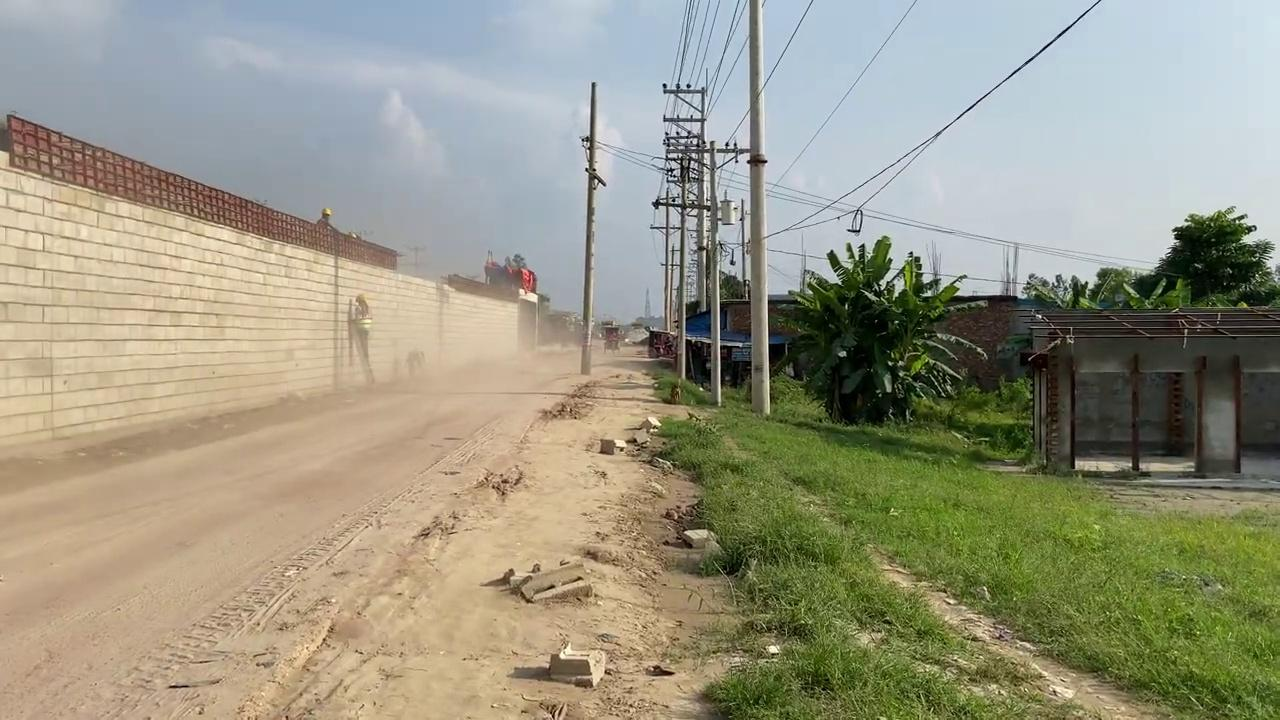Dog: (668, 383, 681, 403)
Muddy road: (2, 346, 738, 718)
Obstacle: (516, 562, 593, 603), (547, 641, 606, 687)
Pole: (746, 0, 771, 416), (579, 80, 597, 375), (707, 140, 722, 406)
Traffic-sign: (770, 234, 987, 425), (1139, 204, 1277, 306)
Tree: (442, 249, 584, 350), (483, 249, 537, 294), (601, 319, 620, 353)
Upstairs: (0, 143, 538, 449)
